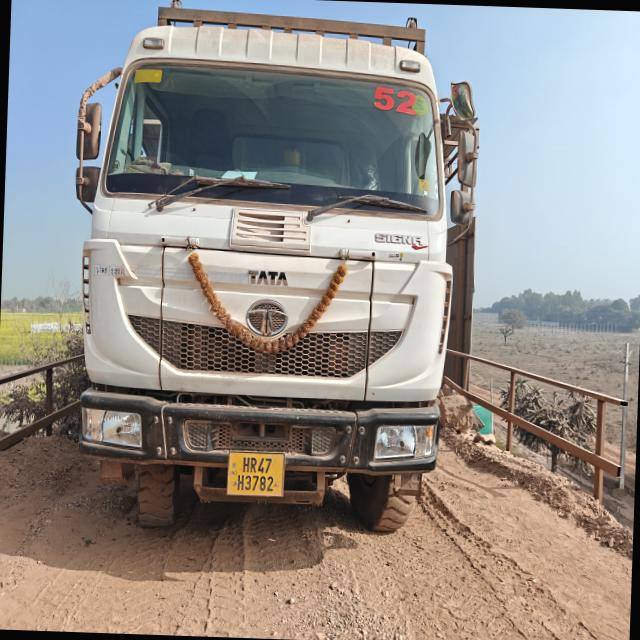license_plate: (227, 452, 285, 497)
